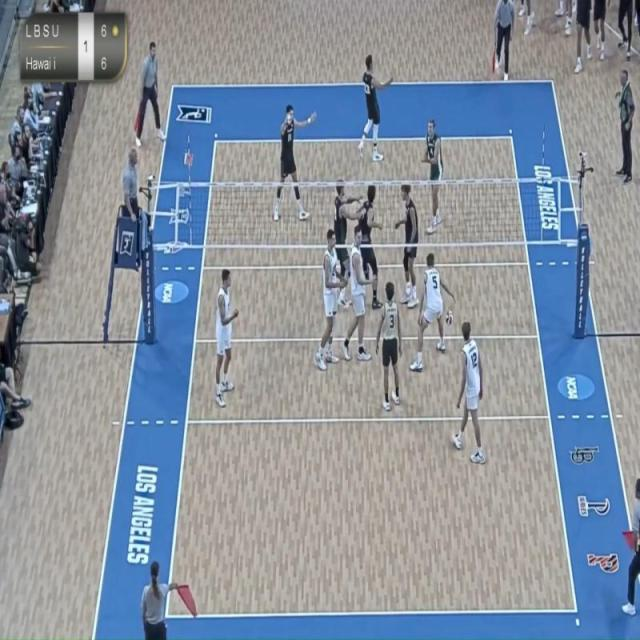volleyball: (443, 305, 457, 332)
